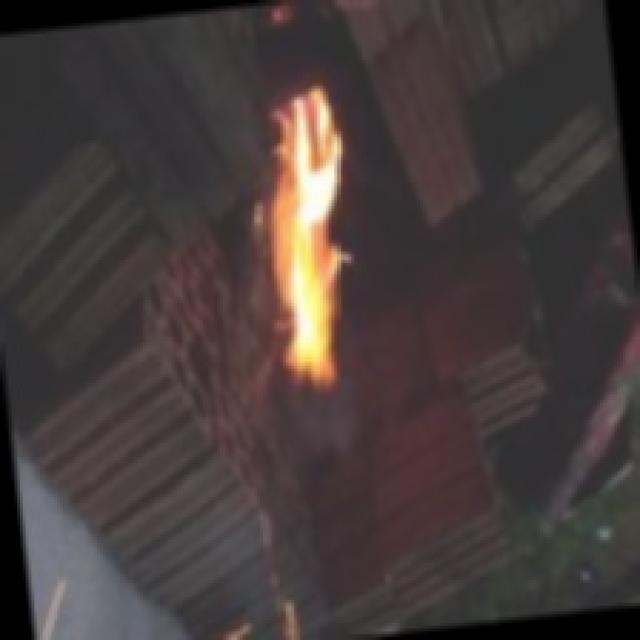fire: (213, 46, 396, 417)
